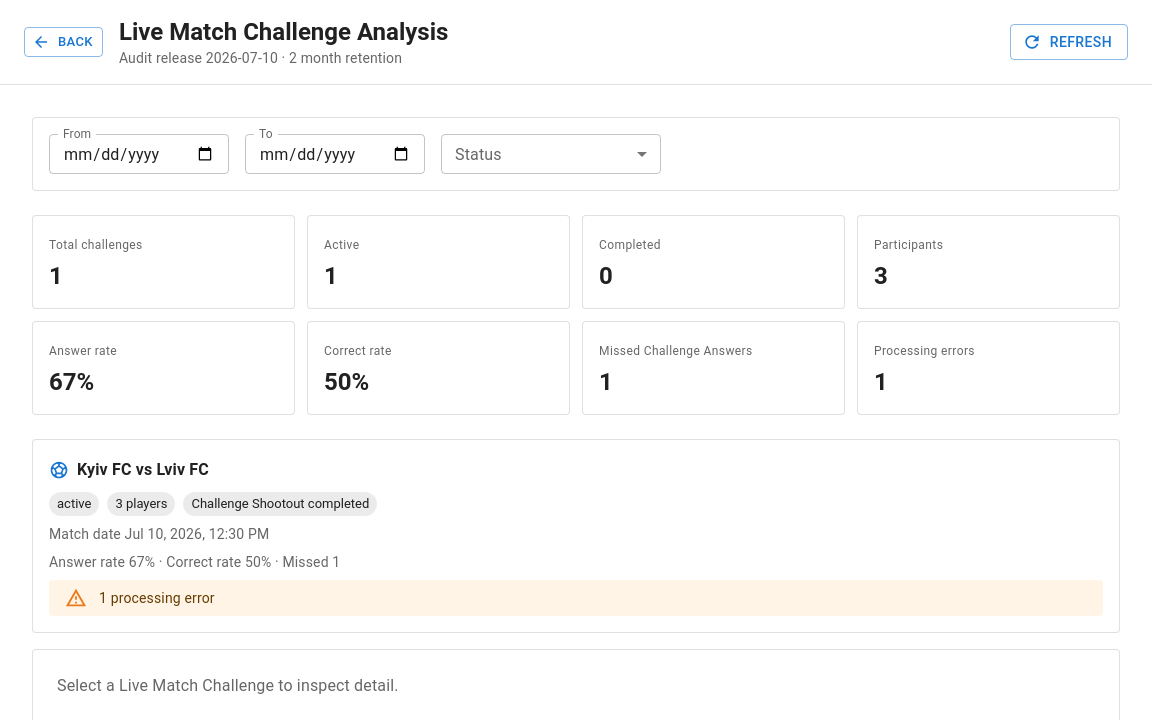
Test: LiveChallengeAnalysisDashboard › renders summary cards, filters, detail answer matrix, shootout, and diagnostics from API fields
The image size is (1152, 720).
Expected: the heading "Live Match Challenge Analysis" is shown, [119,16,448,48]
Expected: the text "Match date Jul 10, 2026, 12:30 PM" is shown, [49,526,269,542]
Click the heading "Kyiv FC vs Lviv FC": (143, 470) [77,456,209,484]
(page scrolled)
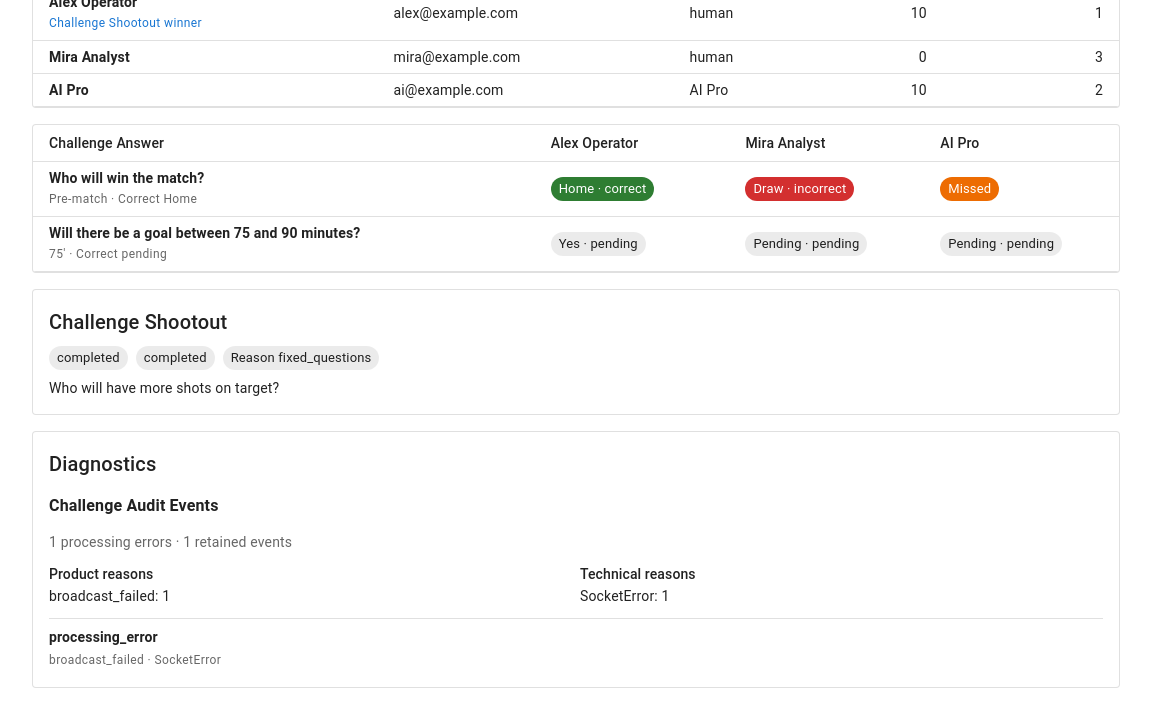
Expected: the text "Mira Analyst" is shown, [49,49,130,65]
Expected: the text "Who will win the match?" is shown, [49,170,204,186]
Expected: the text "Missed" is shown, [948,181,991,196]
